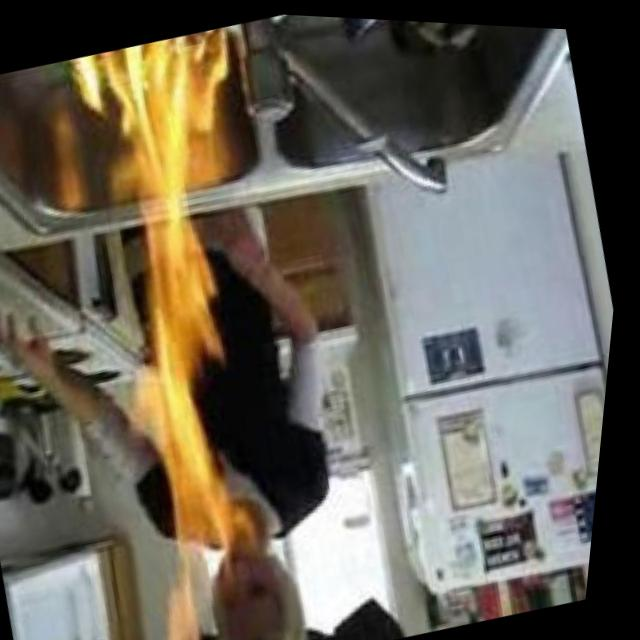Fire: (34, 16, 363, 571)
